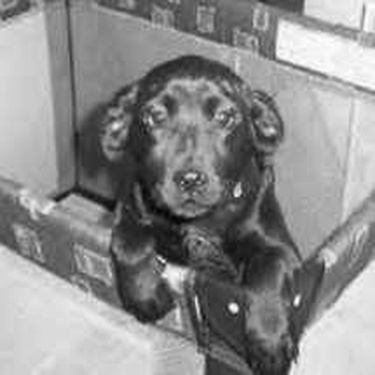dog: (70, 43, 319, 373)
